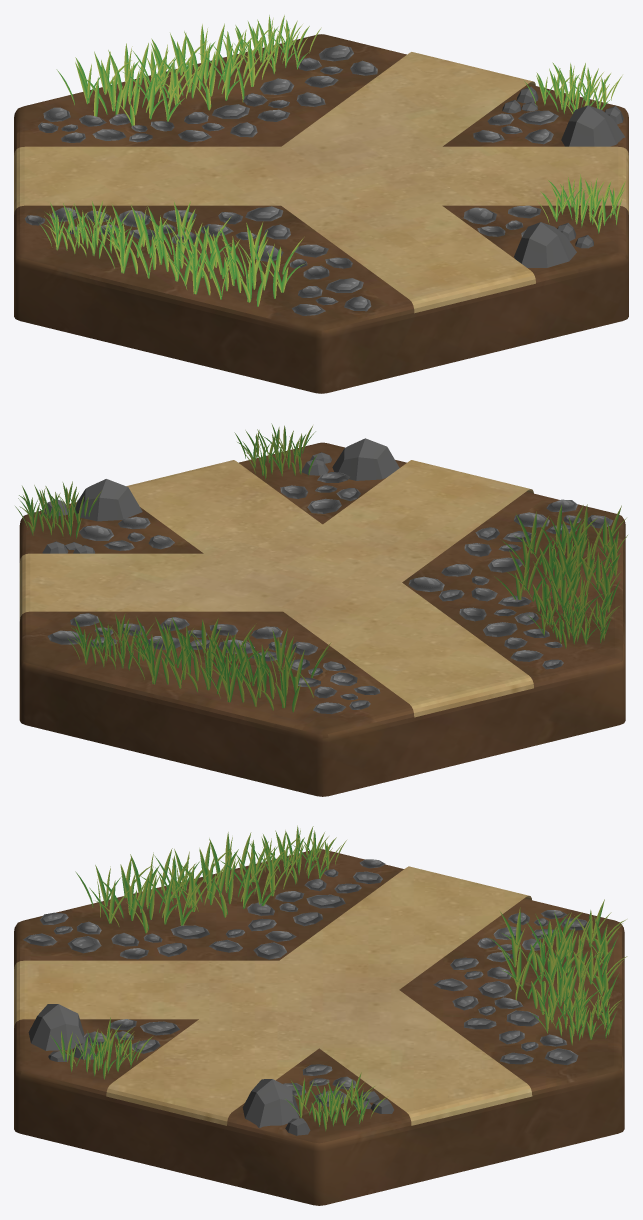
File: Road_TutType9.fbx
The picture shows the model from 3 angles, top to bottom: view 1: azimuth 30°, elevation 25°; view 2: azimuth 150°, elevation 25°; view 3: azimuth 270°, elevation 25°; orthographic projection.
Parts seen in each view (by area): view 1: Object009; view 2: Object009; view 3: Object009.
Boxes of the visible parts, x1,y1,x2,y2 form: Object009: [14, 15, 628, 393]; Object009: [15, 423, 627, 796]; Object009: [14, 825, 627, 1205].
Bounding box in the file's own units: 99.5 × 16.24 × 87.24.
